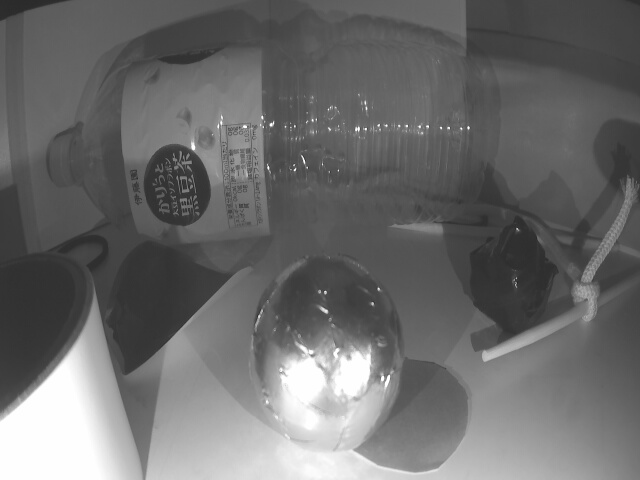Dead: (469, 218, 553, 330)
Live: (244, 259, 407, 454)
